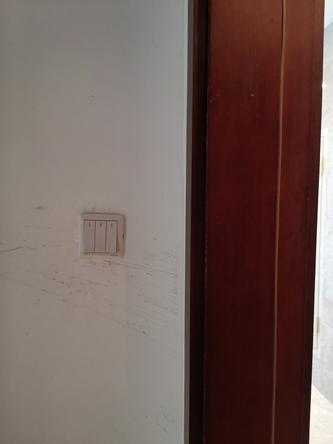switch: (80, 214, 96, 256), (105, 216, 120, 256), (93, 218, 108, 256)
